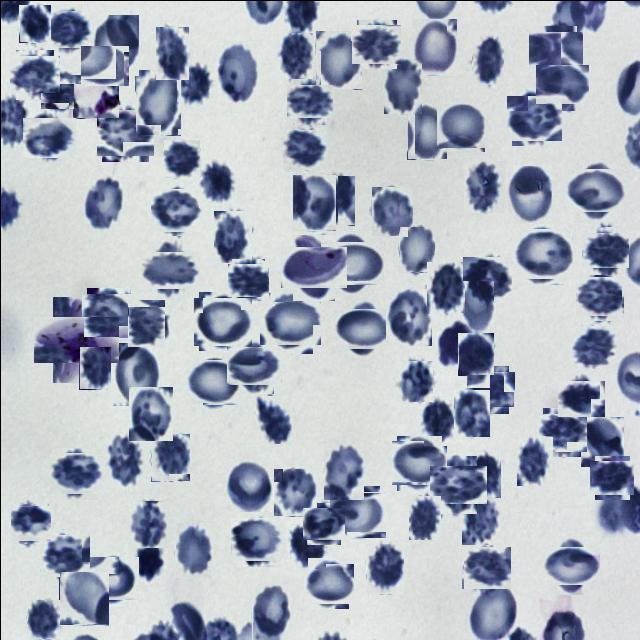red blood cell: (514, 225, 570, 281), (112, 340, 159, 405), (134, 69, 180, 135), (324, 235, 378, 289), (504, 164, 552, 224), (91, 14, 138, 75), (568, 164, 622, 216), (196, 294, 248, 348), (314, 30, 361, 89), (98, 106, 150, 158), (264, 296, 316, 348), (330, 488, 382, 540), (58, 570, 108, 624), (410, 18, 456, 76), (385, 286, 431, 344), (216, 40, 258, 102), (508, 91, 559, 142), (188, 357, 238, 408), (394, 438, 444, 488), (83, 290, 133, 340), (226, 458, 272, 512), (81, 175, 125, 231), (291, 174, 335, 230), (322, 440, 363, 500), (530, 28, 579, 77), (338, 304, 388, 352), (234, 514, 282, 564), (128, 386, 172, 440), (88, 553, 136, 602), (546, 540, 594, 588), (438, 102, 486, 150), (433, 460, 481, 508), (24, 113, 72, 161), (146, 246, 193, 294), (406, 103, 446, 159), (52, 449, 99, 496), (230, 342, 277, 389), (153, 186, 200, 233), (464, 255, 511, 302), (251, 584, 290, 640), (41, 532, 88, 578), (538, 60, 584, 107), (580, 416, 623, 466), (463, 160, 504, 212), (462, 544, 508, 590), (569, 324, 615, 370), (272, 468, 316, 516), (383, 58, 421, 113), (104, 435, 146, 484), (174, 522, 211, 577), (306, 560, 350, 606), (371, 186, 412, 235), (354, 21, 398, 66), (540, 409, 584, 454), (82, 42, 126, 87), (213, 210, 251, 262), (461, 495, 501, 544), (365, 543, 403, 594), (426, 261, 464, 312), (577, 274, 621, 318), (46, 7, 90, 51), (12, 52, 56, 96), (127, 500, 168, 547), (150, 433, 189, 481), (317, 174, 354, 224), (282, 128, 326, 170), (198, 158, 235, 207), (125, 301, 167, 344), (516, 434, 552, 484), (458, 280, 493, 331), (469, 368, 511, 410), (584, 228, 626, 270), (560, 377, 602, 419), (155, 26, 188, 79), (274, 32, 312, 78), (255, 395, 291, 443), (453, 389, 489, 436), (398, 226, 434, 272), (290, 522, 326, 568), (592, 457, 632, 497), (289, 81, 329, 121), (471, 35, 503, 84), (394, 360, 432, 401), (457, 332, 493, 375), (42, 72, 80, 110), (162, 138, 200, 176), (11, 504, 49, 542), (304, 504, 342, 542), (176, 61, 212, 101), (469, 451, 500, 497), (408, 495, 440, 539), (229, 260, 266, 298), (423, 400, 454, 445), (78, 346, 110, 389), (26, 599, 59, 639), (18, 4, 50, 42)
ring: (286, 240, 340, 294)
trophozoite: (42, 306, 108, 372), (72, 83, 118, 118)
